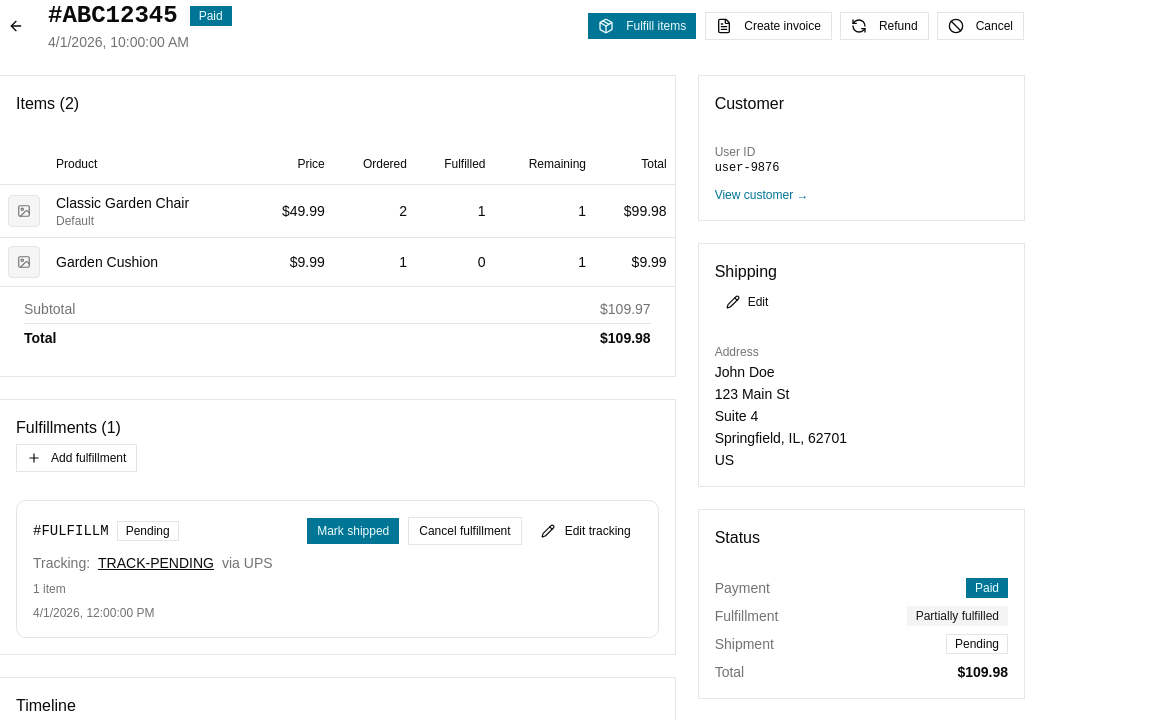
Scenario: OrderDetailPage › partial fulfillment shows remaining quantities and prevents over-fulfillment
The width and height of the screenshot is (1152, 720).
Click the button "Fulfill items". click: {"x": 642, "y": 26}
box: [587,12,697,40]
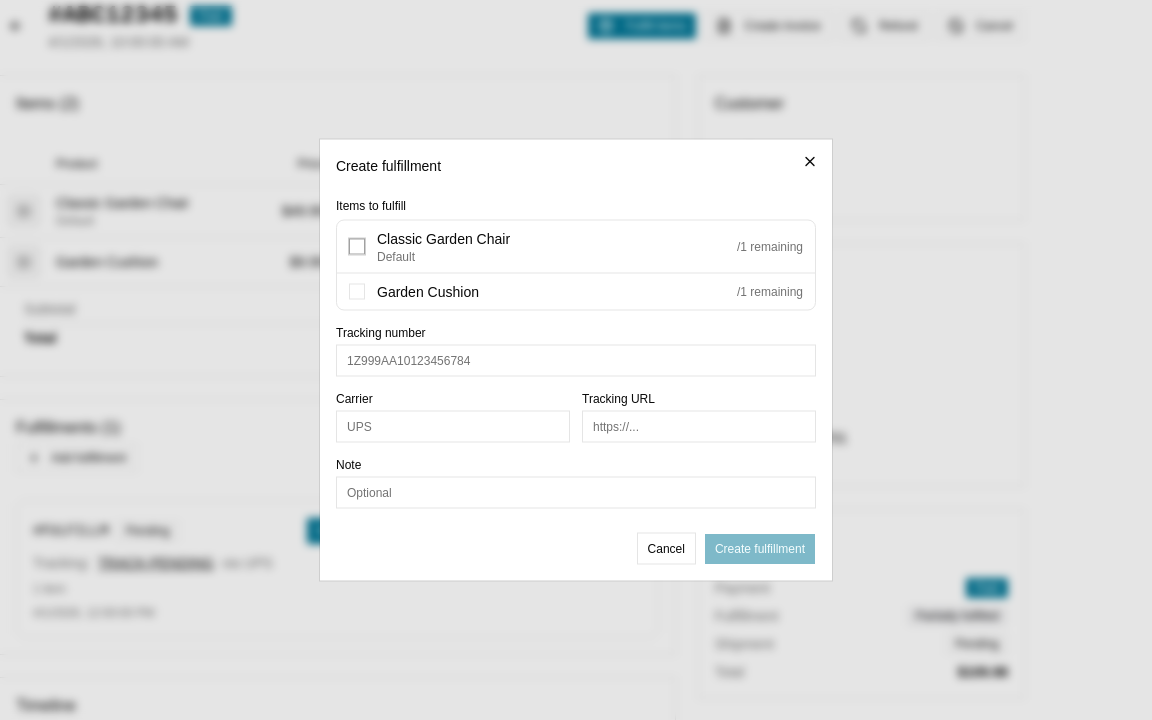
Now the 1st text "/1 remaining" is shown, box [737,238,803,254]
